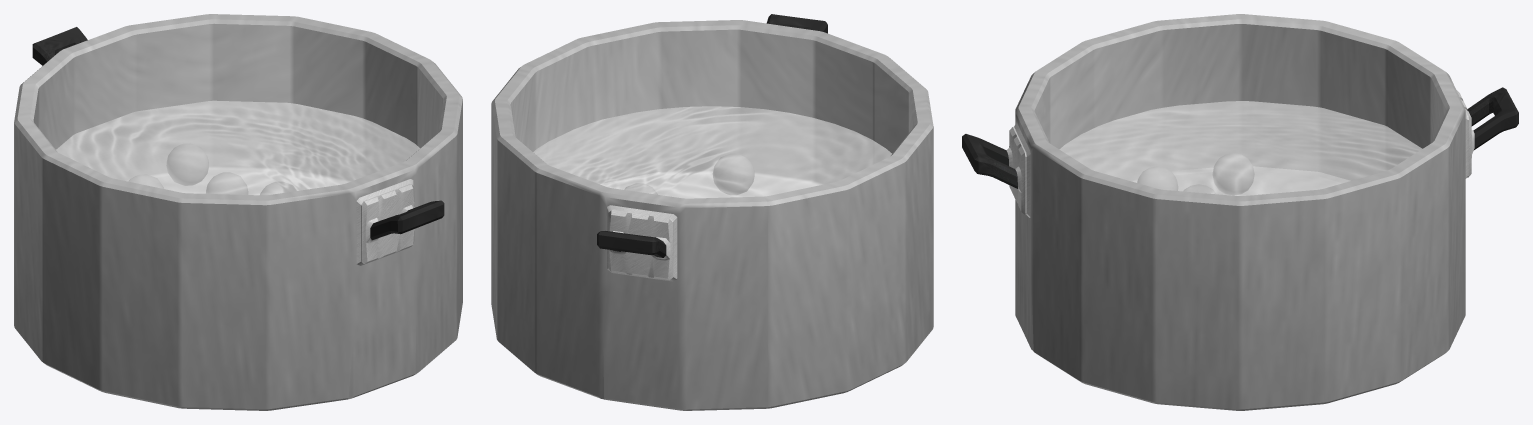
File: potWithTangyuanWater.fbx
3 views of the same model, side by side, from view 1: azimuth 30°, elevation 25°; view 2: azimuth 150°, elevation 25°; view 3: azimuth 270°, elevation 25° (orthographic).
Visible parts, largest first — view 1: Pot1, water3, Dough8, Dough9; view 2: Pot1, water3, Dough3; view 3: Pot1, water3, Dough4, Dough7.
Part boxes in pixels (x1,y1,x2,y2): Pot1: [14, 14, 462, 410]; water3: [56, 100, 420, 195]; Dough8: [166, 143, 208, 185]; Dough9: [206, 172, 247, 194]; Pot1: [491, 14, 933, 410]; water3: [533, 106, 891, 198]; Dough3: [713, 154, 754, 194]; Pot1: [962, 14, 1518, 410]; water3: [1059, 101, 1422, 195]; Dough4: [1213, 153, 1254, 195]; Dough7: [1137, 166, 1177, 190].
Size of the model in its own units: 31.2 by 16.01 by 38.57.
Materials: 3 (3 with a texture image).
